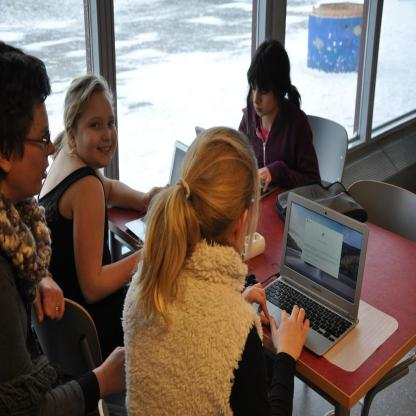board: (247, 190, 370, 355), (124, 140, 188, 244), (196, 127, 275, 201)
